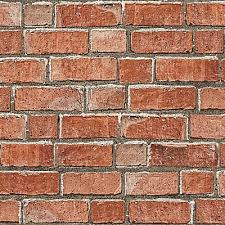brick: (15, 86, 84, 113), (50, 56, 118, 83), (128, 85, 197, 111), (150, 142, 219, 168), (22, 198, 90, 223), (128, 198, 194, 223), (156, 58, 219, 84), (120, 114, 188, 138), (130, 29, 192, 55), (56, 141, 114, 168), (56, 2, 123, 25), (61, 171, 122, 196), (60, 114, 119, 139), (1, 170, 60, 195), (25, 31, 89, 54), (125, 170, 179, 196), (1, 141, 55, 166), (124, 2, 182, 25), (1, 57, 49, 82), (189, 113, 225, 140), (185, 1, 225, 25), (87, 86, 126, 110), (90, 198, 126, 223), (116, 141, 149, 168), (181, 170, 215, 196), (91, 29, 127, 53), (119, 57, 153, 82), (195, 29, 225, 55), (196, 196, 225, 222), (29, 114, 59, 139), (23, 2, 54, 25), (1, 113, 28, 139), (198, 87, 225, 110), (1, 2, 22, 28), (1, 31, 24, 54), (1, 200, 21, 221), (1, 87, 13, 111)
